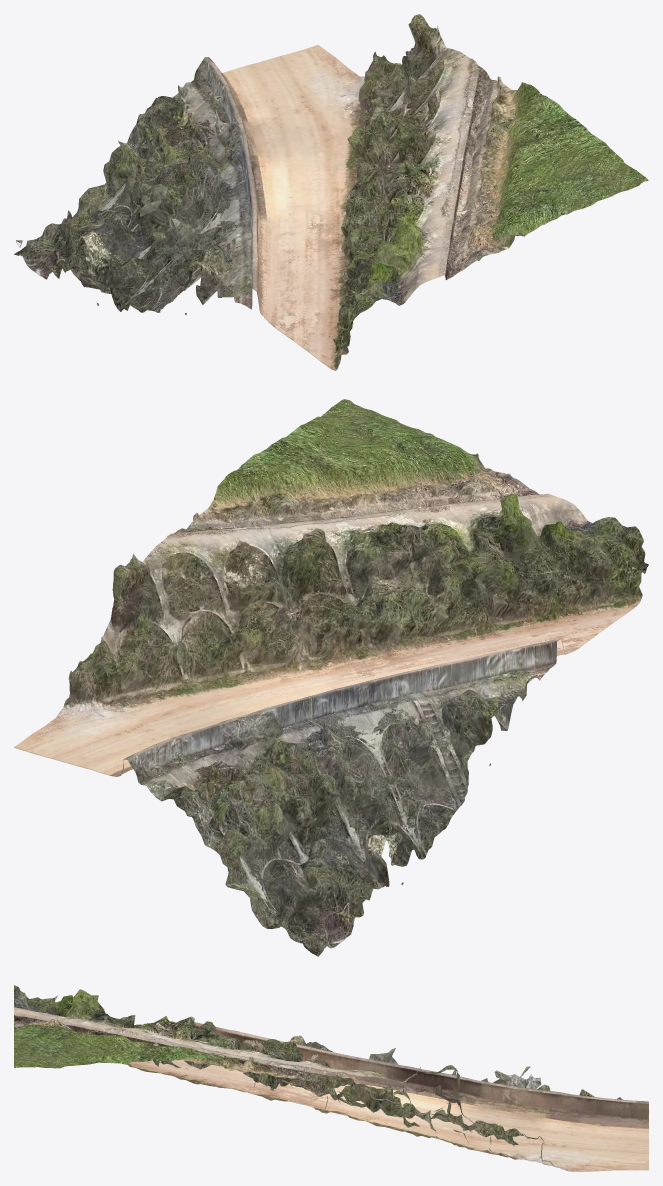
Rendered from BlockYAYB_L20_34.glb.
3 views of the same model, one above another, from view 1: azimuth 30°, elevation 25°; view 2: azimuth 150°, elevation 25°; view 3: azimuth 270°, elevation 25° (orthographic). The views are drawn at different scales.
Parts seen in each view (by area): view 1: rtc; view 2: rtc; view 3: rtc.
Part boxes in pixels (box(x1,y1,x2,y2)): rtc: box(14, 14, 648, 370); rtc: box(14, 399, 648, 956); rtc: box(14, 985, 648, 1171).
Bounding box in the file's own units: 17.66 × 14.09 × 33.18.
Materials: 2 (2 with a texture image).
